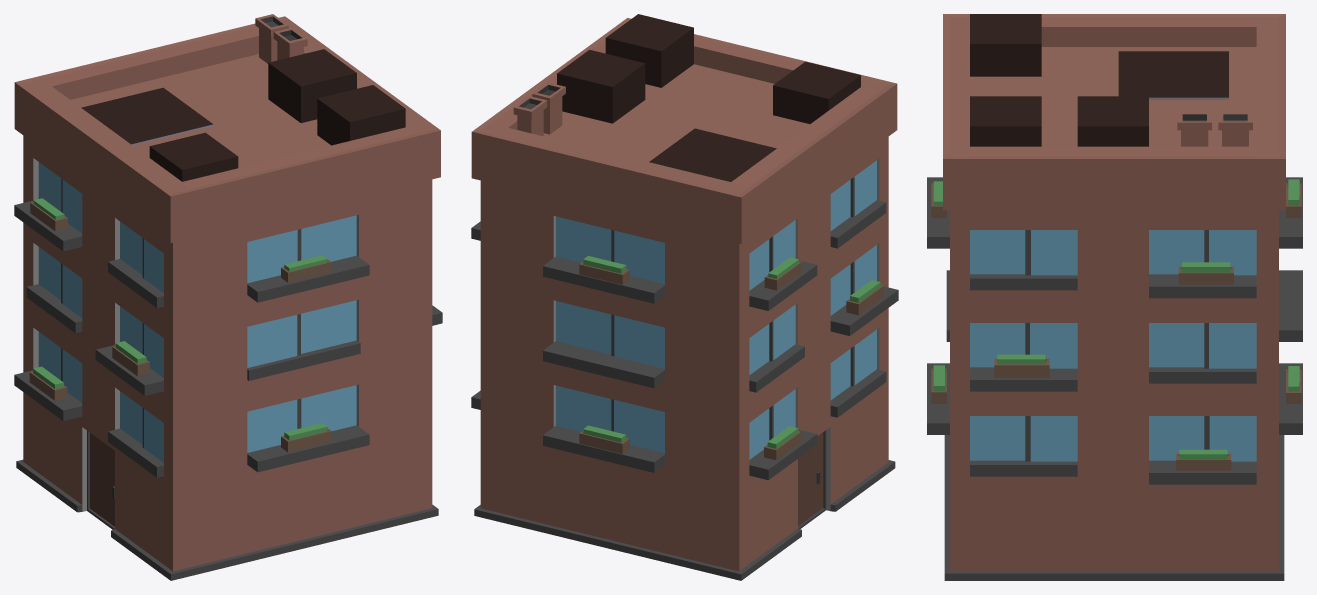
The model's file is predio3.fbx.
3 views of the same model, side by side, from view 1: azimuth 30°, elevation 25°; view 2: azimuth 150°, elevation 25°; view 3: azimuth 270°, elevation 25° (orthographic). The views are drawn at different scales.
Visible parts, largest first — view 1: Cube.055, Cube.009, Cube.008; view 2: Cube.055, Cube.006, Cube.007; view 3: Cube.055, Cube.003, Cube.004, Cube.005, Plane.006, Plane.009, Plane.011.
Part boxes in pixels (bbox=[...]): Cube.055: bbox=[14, 14, 442, 580]; Cube.009: bbox=[281, 428, 331, 452]; Cube.008: bbox=[281, 259, 331, 282]; Cube.055: bbox=[471, 14, 898, 580]; Cube.006: bbox=[579, 430, 629, 453]; Cube.007: bbox=[579, 262, 629, 284]; Cube.055: bbox=[927, 14, 1302, 580]; Cube.003: bbox=[994, 358, 1049, 377]; Cube.004: bbox=[1178, 266, 1233, 284]; Cube.005: bbox=[1176, 453, 1231, 470]; Plane.006: bbox=[997, 354, 1045, 364]; Plane.009: bbox=[1182, 262, 1230, 272]; Plane.011: bbox=[1179, 449, 1227, 459].
Bounding box in the file's own units: 63.35 × 82.34 × 63.02.
